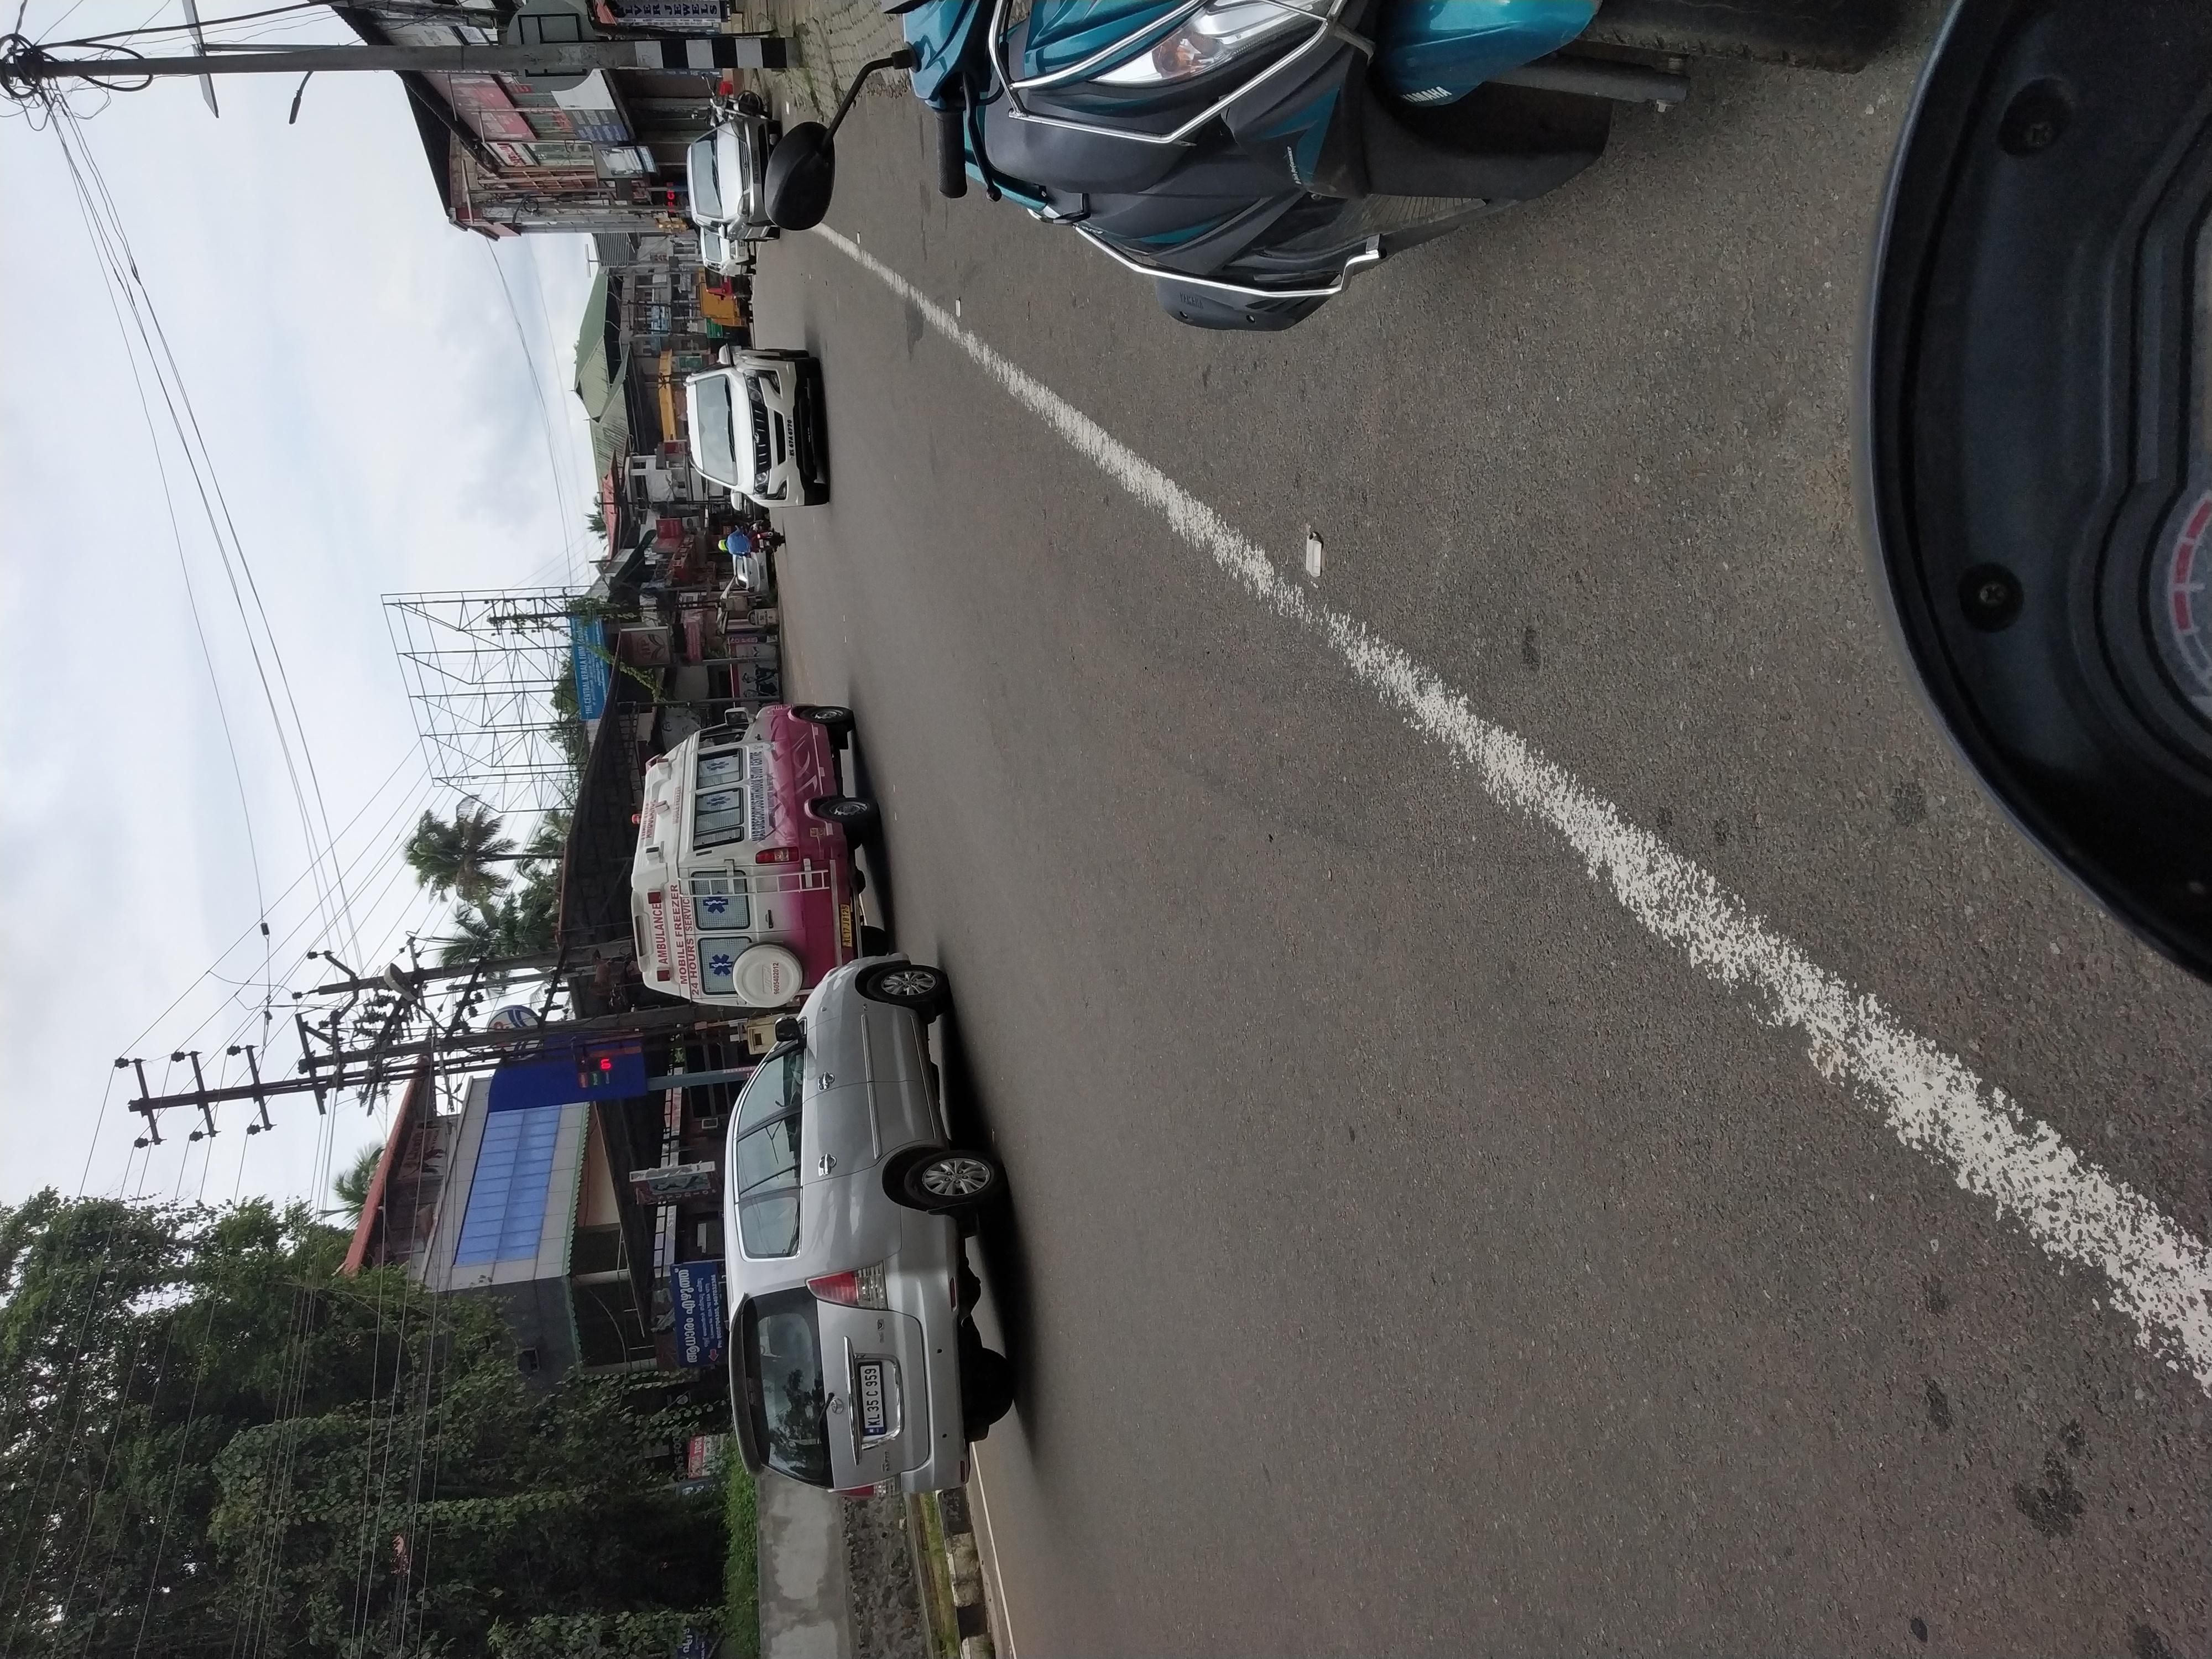Auto: (900, 472, 1296, 653)
